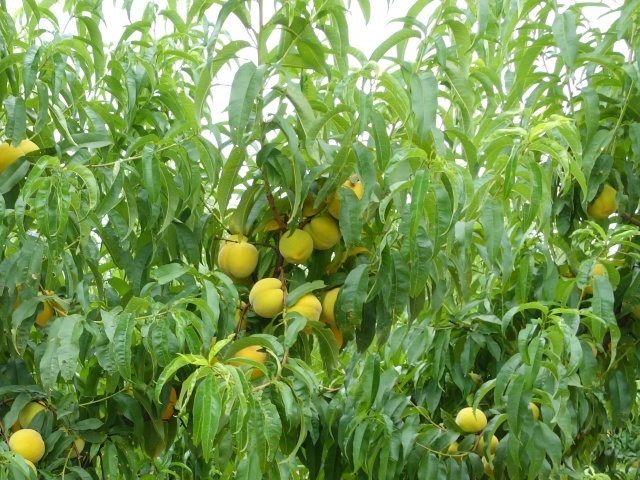peach: (1, 130, 51, 178), (326, 174, 371, 223), (217, 237, 262, 283), (224, 338, 272, 381), (250, 273, 291, 321), (583, 178, 625, 223), (306, 211, 346, 255), (278, 224, 317, 269), (6, 425, 47, 467), (284, 291, 325, 332), (12, 393, 52, 434), (451, 402, 490, 438), (473, 429, 502, 458)
